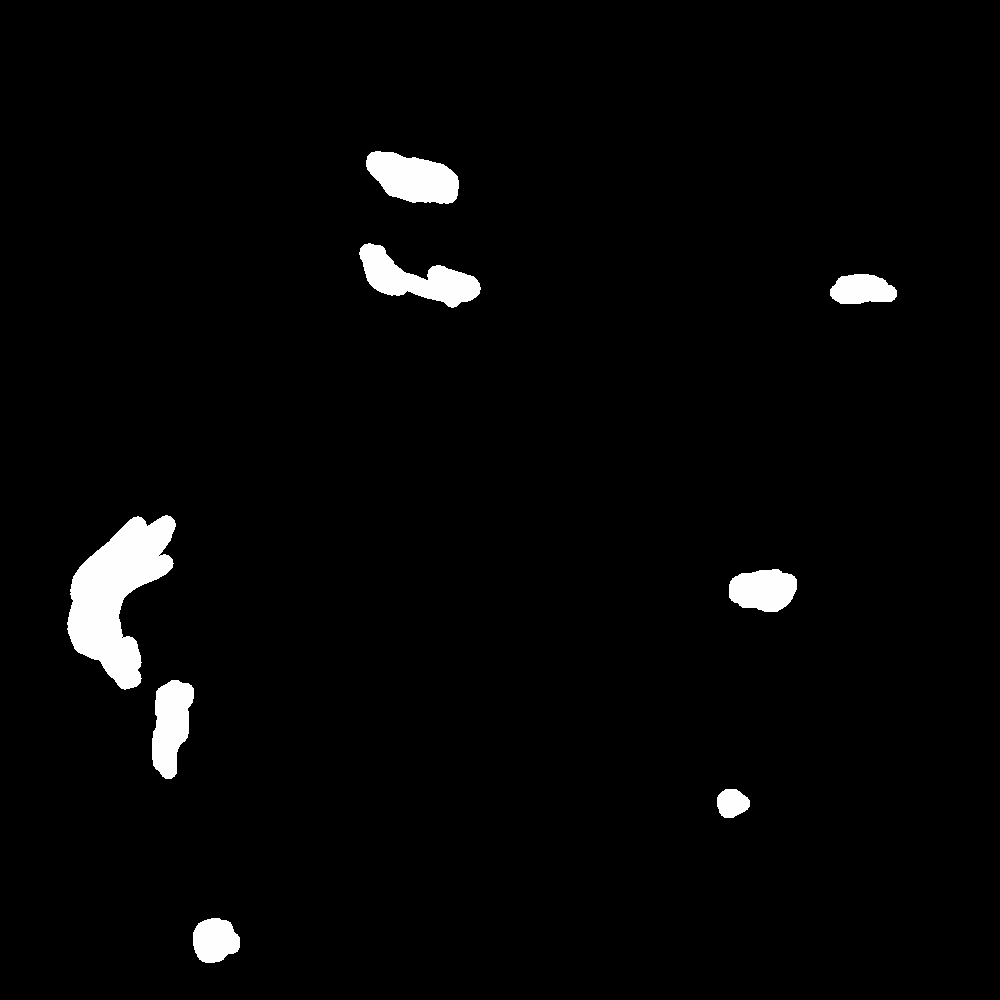illegal: (527, 715, 590, 925), (129, 646, 197, 775), (353, 146, 464, 216)
